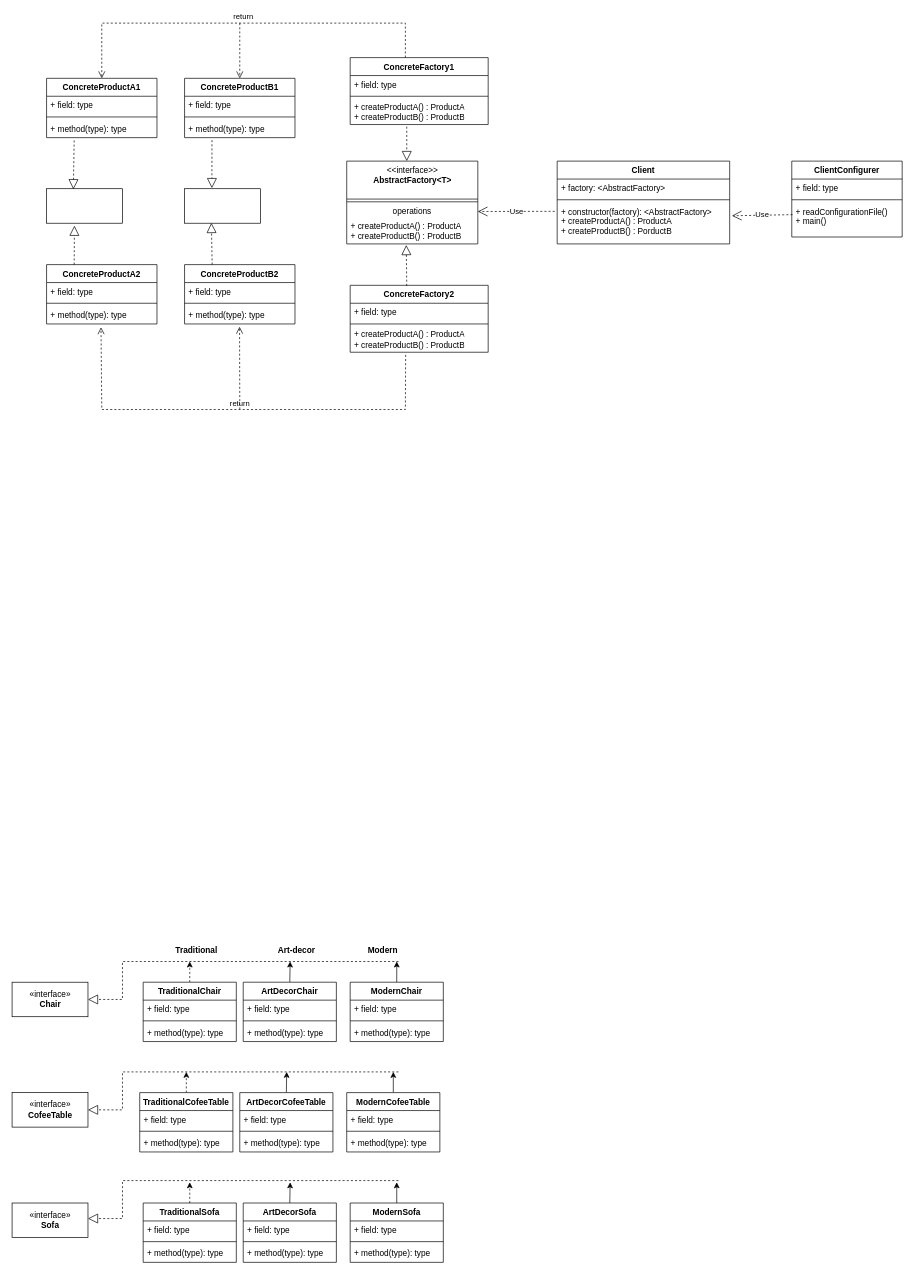
Some shapes in this 914 by 1276 pixel diagram are drawn without their labels. The centre of each missing label's shape, as x and y in pixels:
"«interface» Product A" belongs at (84,205).
"«interface» Product B" belongs at (222,205).
